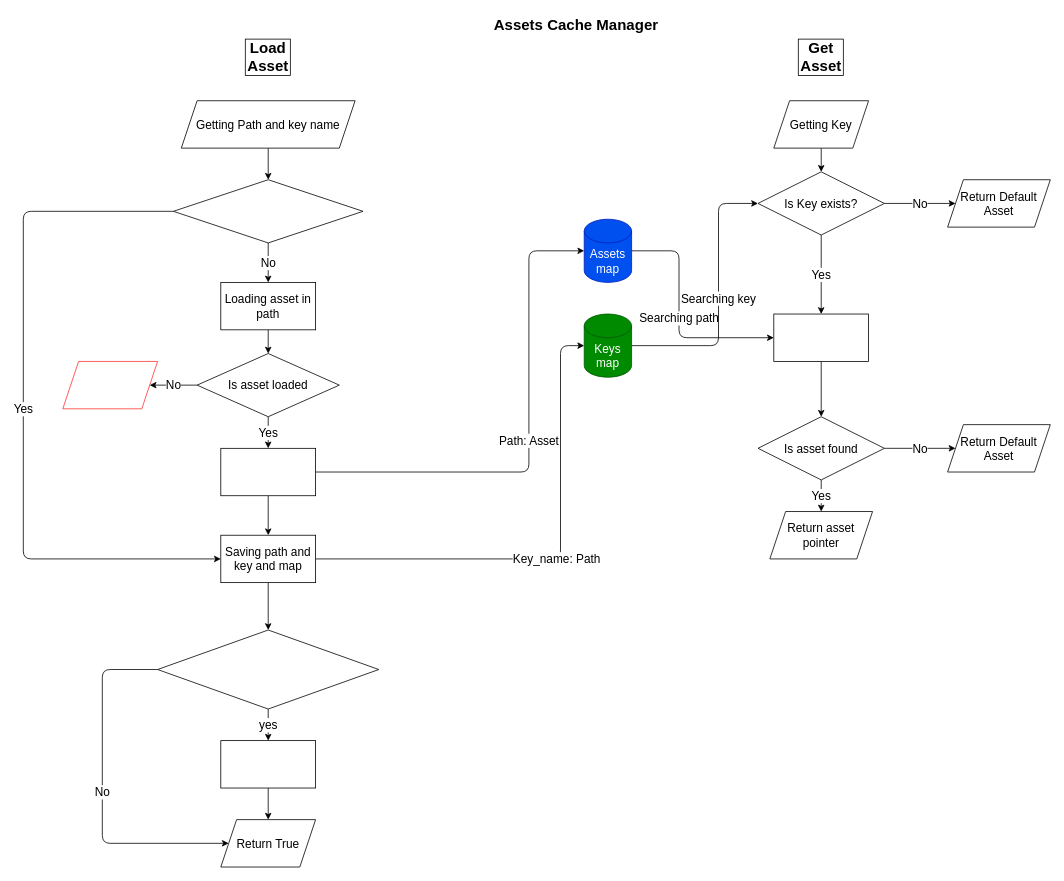
The diagram is 1064 pixels wide and 881 high, and some of its shapes have lost their labels. Each missing label, with the centre of its shape:
"Getting asset based on path from key" belongs at (x=821, y=337).
"Is path already loaded?" belongs at (x=268, y=211).
"Is the key equal to the Default key" belongs at (x=268, y=669).
"Return false" belongs at (x=110, y=385).
"Saving asset in map" belongs at (x=268, y=472).
"Saving asset pointer as default asset" belongs at (x=268, y=764).
